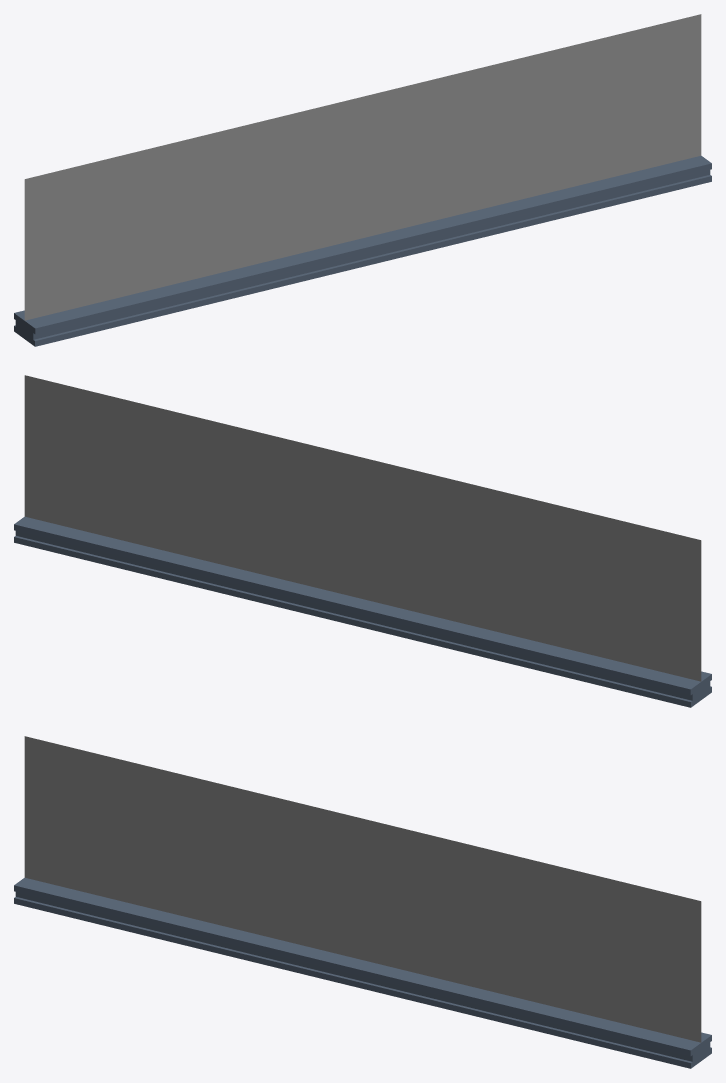
File: SM_通风橱推门_02.FBX
The picture shows the model from 3 angles, top to bottom: view 1: azimuth 30°, elevation 25°; view 2: azimuth 150°, elevation 25°; view 3: azimuth 330°, elevation 25°; orthographic projection.
Visible parts, largest first — view 1: SM_通风橱推门_02; view 2: SM_通风橱推门_02; view 3: SM_通风橱推门_02.
Boxes of the visible parts, left/top/right/bottom form: SM_通风橱推门_02: left=14, top=14, right=711, bottom=346; SM_通风橱推门_02: left=14, top=375, right=711, bottom=707; SM_通风橱推门_02: left=14, top=736, right=711, bottom=1068.
Bounding box in the file's own units: 1011 × 228 × 54.84.
